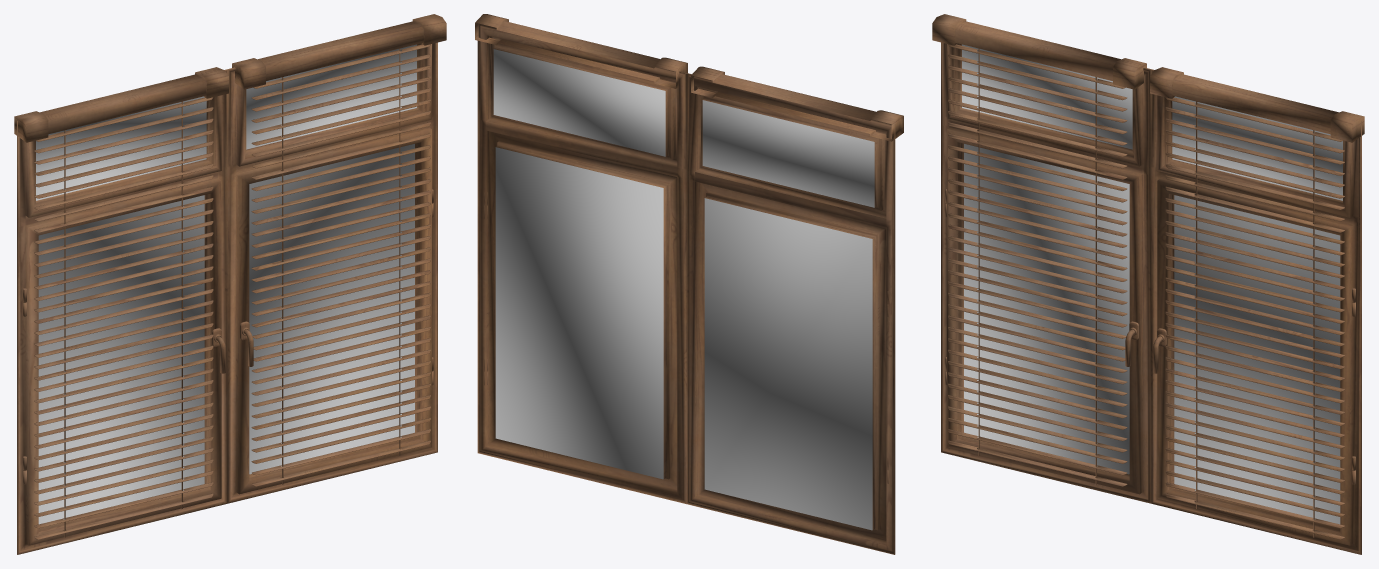
Rendered from Window2.fbx.
The picture shows the model from 3 angles, left to right: view 1: azimuth 30°, elevation 25°; view 2: azimuth 150°, elevation 25°; view 3: azimuth 330°, elevation 25°; orthographic projection.
Parts seen in each view (by area): view 1: window2__1_1; view 2: window2__1_1; view 3: window2__1_1.
Part boxes in pixels (box(x1,y1,x2,y2)): window2__1_1: box(14, 14, 446, 554); window2__1_1: box(475, 14, 903, 554); window2__1_1: box(932, 14, 1364, 554).
Size of the model in its own units: 5.65 by 5.64 by 0.3242.
